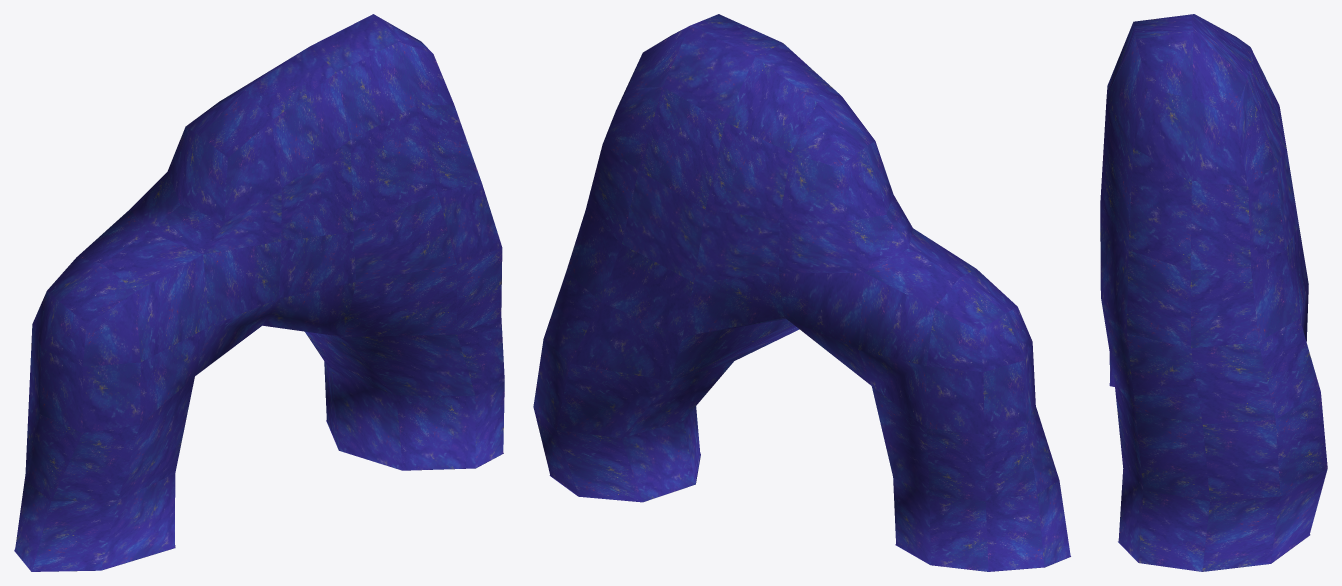
Rendered from object_50_lev3.glb.
3 views of the same model, side by side, from view 1: azimuth 30°, elevation 25°; view 2: azimuth 150°, elevation 25°; view 3: azimuth 270°, elevation 25° (orthographic). The views are drawn at different scales.
Visible parts, largest first — view 1: object_50_lev3; view 2: object_50_lev3; view 3: object_50_lev3.
Boxes of the visible parts, x1,y1,x2,y2 form: object_50_lev3: (14,14,504,571); object_50_lev3: (533,14,1070,571); object_50_lev3: (1100,14,1327,571).
Bounding box in the file's own units: 24.12 × 21.6 × 9.15.
1 material, 1 textured.
